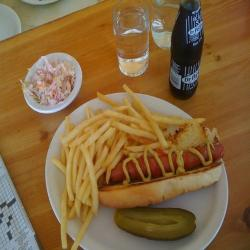fries: (61, 102, 177, 157)
hotdog: (80, 140, 226, 204)
